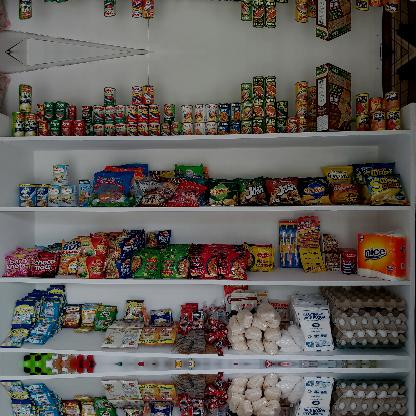Koko-Krunch: (316, 63, 350, 132), (315, 0, 351, 42)
